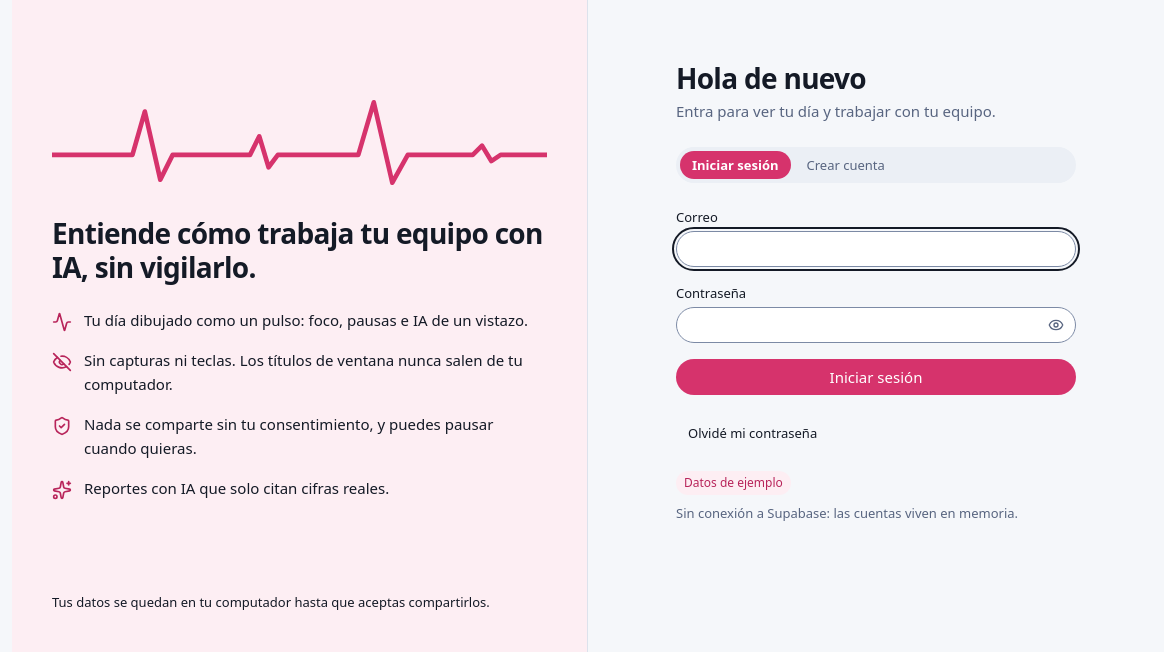
Test: Acceso (CU-01 a CU-03) › inicia sesión y, con la contraseña equivocada, dice qué revisar (AC-2)
Expected: the heading "Hola de nuevo" is shown, [676,59,866,97]
In the field labelled "Correo": (876, 249) [676,231,1076,267], type "ana@pulso.test"
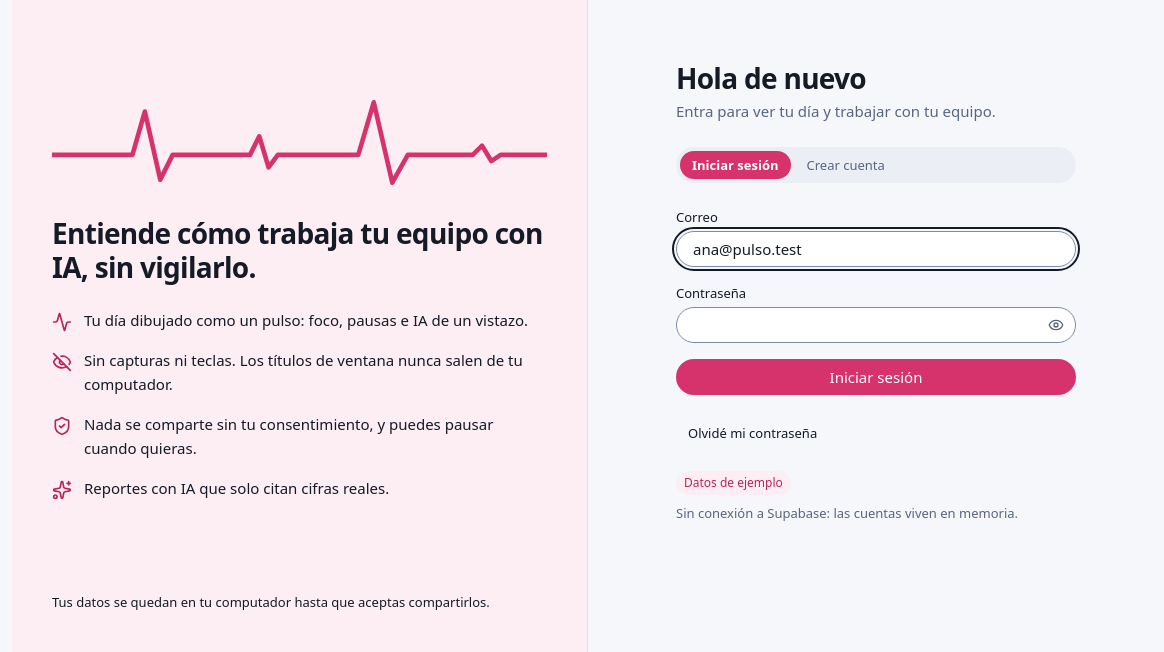
In the password field labelled "Contraseña": (876, 325) [676,307,1076,343], type "otra-clave"
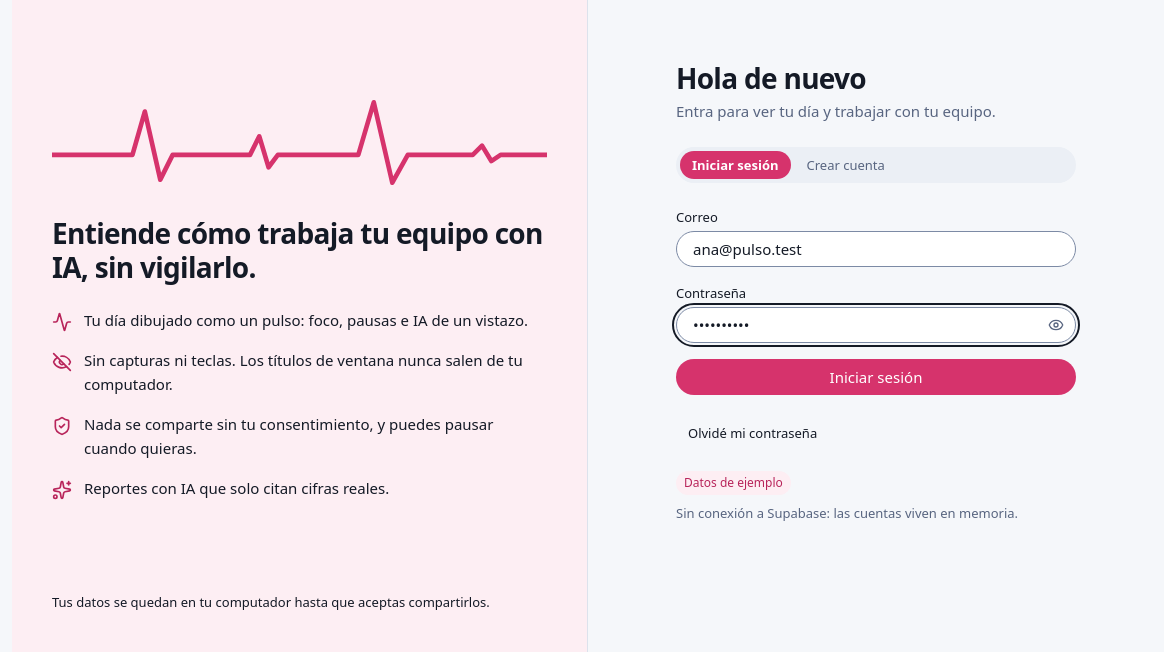
Click the button "Iniciar sesión": (876, 377) [676,359,1076,395]
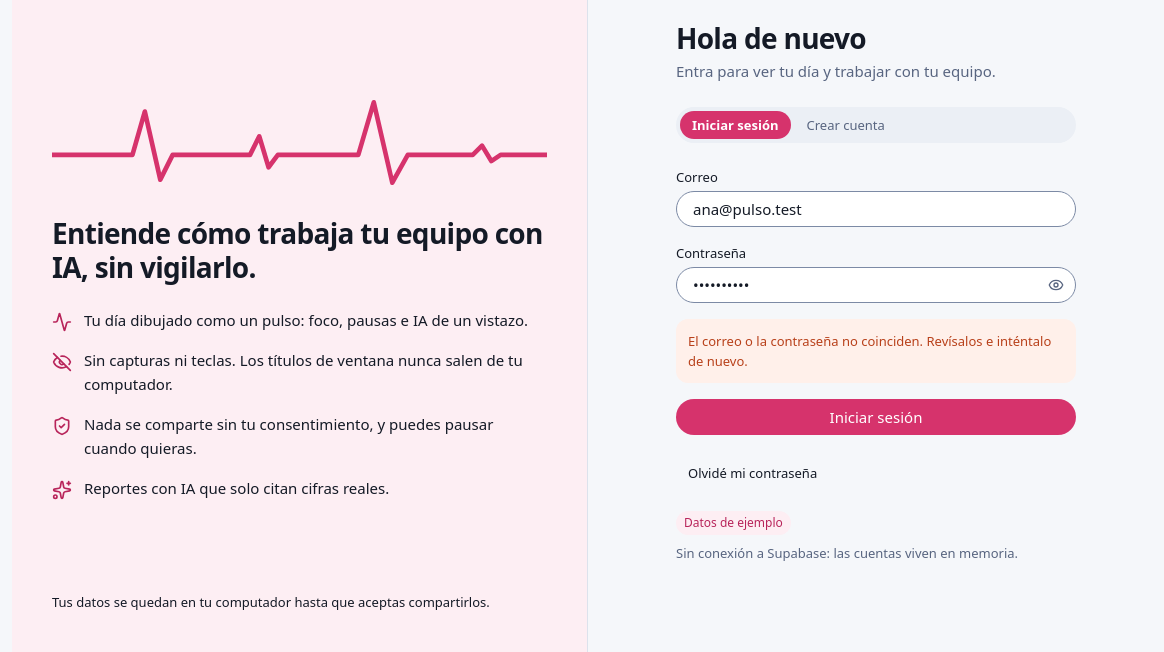
Expected: the message shows "no coinciden", [688,332,1051,370]
In the password field labelled "Contraseña": (876, 285) [676,267,1076,303], type "secreto-123"
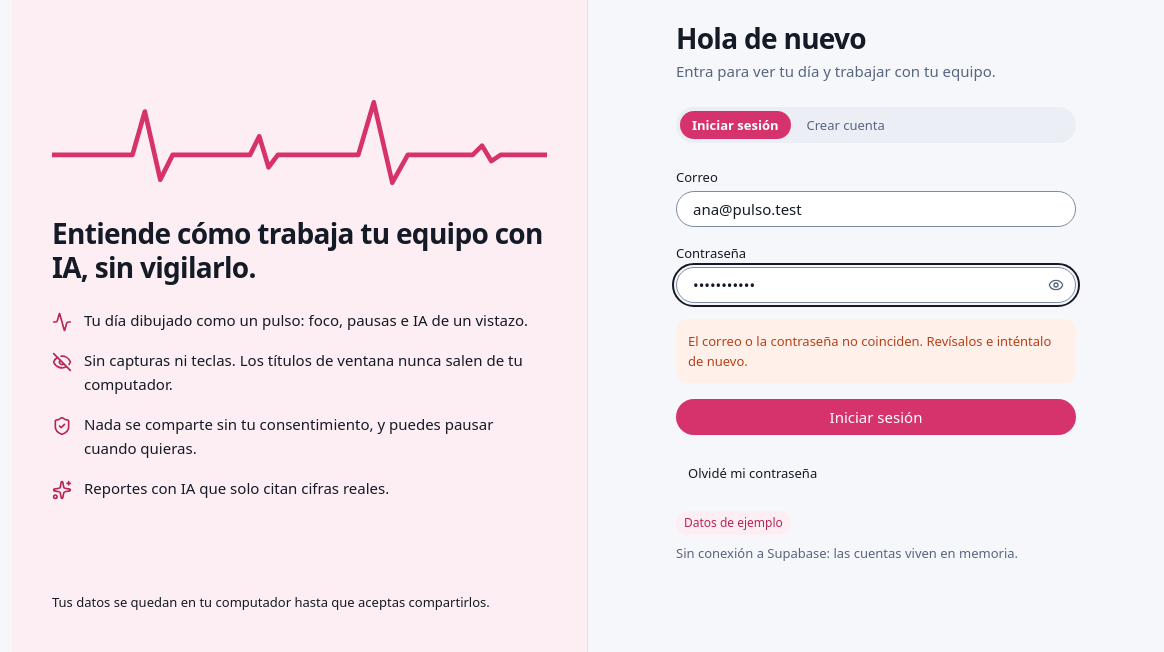
Click the button "Iniciar sesión": (876, 417) [676,399,1076,435]
(page scrolled)
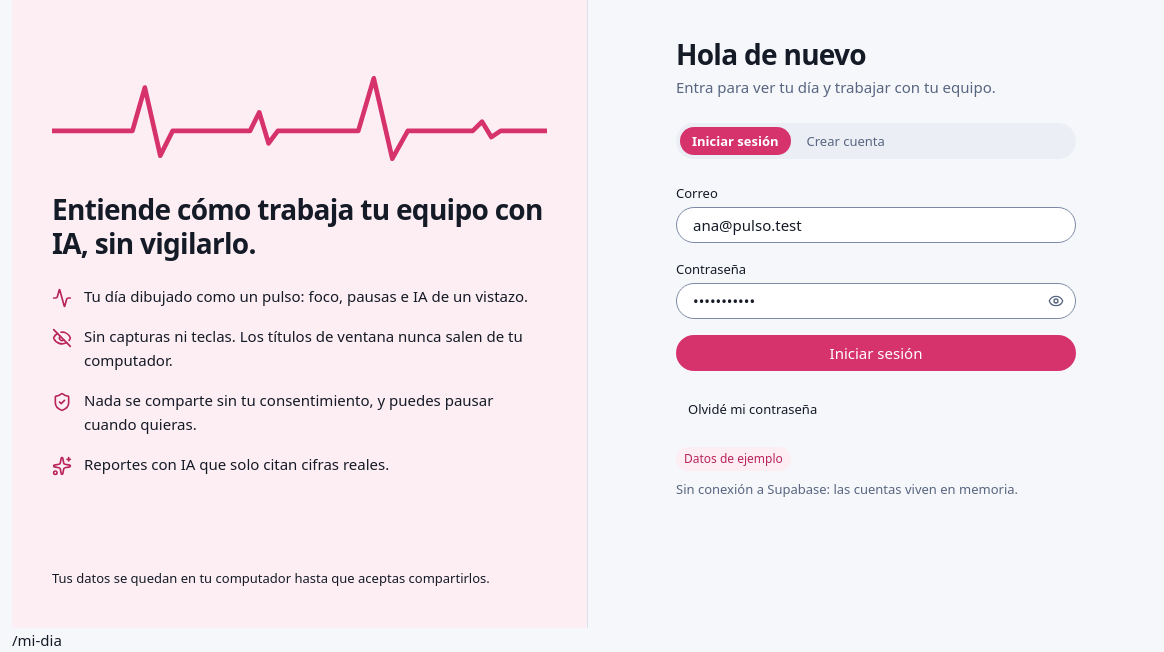
Expected: the text with test id "ruta" reads "/mi-dia", [12,630,62,650]
